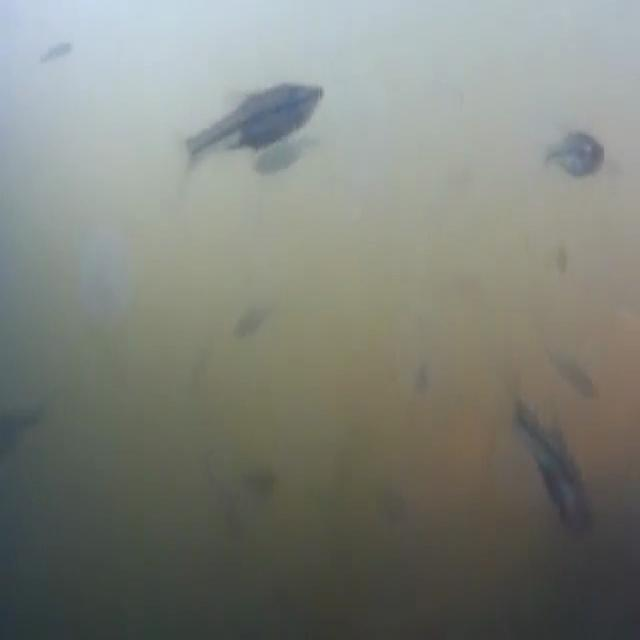Cakil Baligi: (171, 77, 335, 183), (510, 389, 600, 540)
